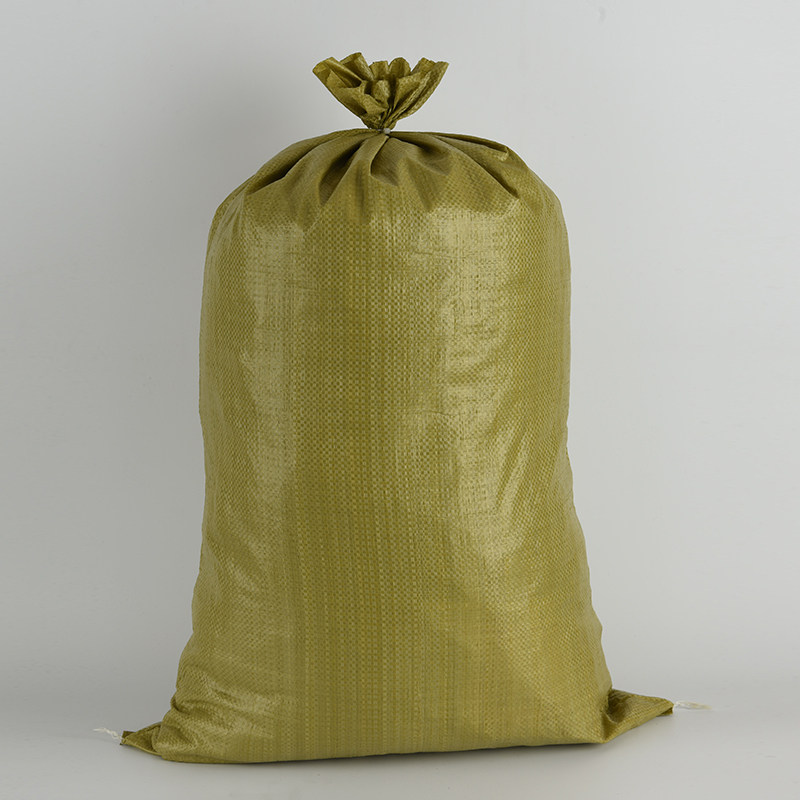Parcel: (122, 53, 671, 762)
